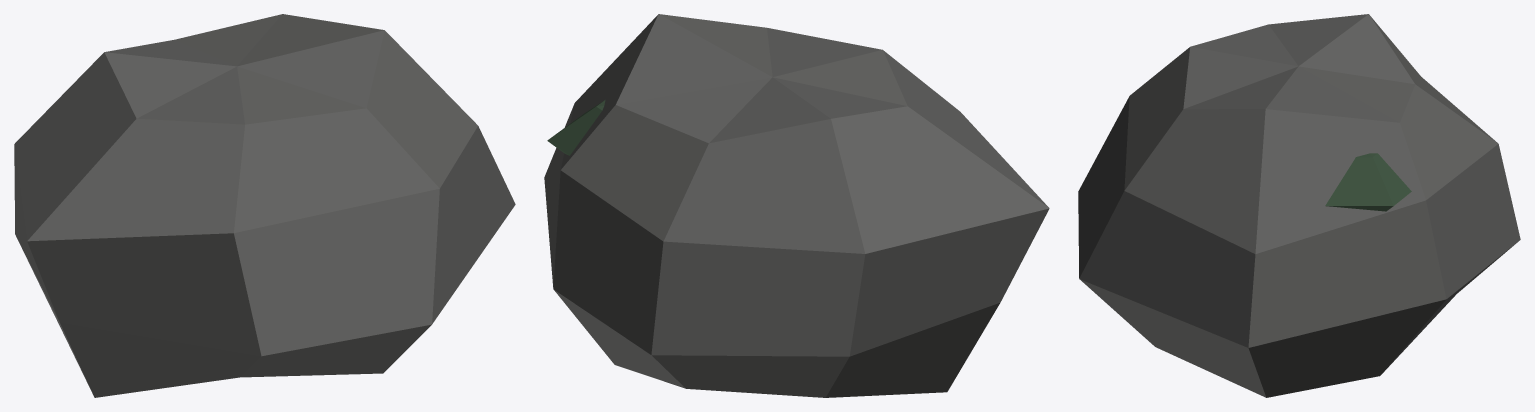
The model's file is piatra_2.glb.
The picture shows the model from 3 angles, left to right: view 1: azimuth 30°, elevation 25°; view 2: azimuth 150°, elevation 25°; view 3: azimuth 270°, elevation 25°; orthographic projection. The views are drawn at different scales.
Parts seen in each view (by area): view 1: Piatra; view 2: Piatra; view 3: Piatra.
Part boxes in pixels (x1=…): Piatra: x1=14, y1=14, x2=515, y2=397; Piatra: x1=544, y1=14, x2=1049, y2=397; Piatra: x1=1078, y1=14, x2=1520, y2=397.
Bounding box in the file's own units: 2.45 × 1.42 × 2.05.
